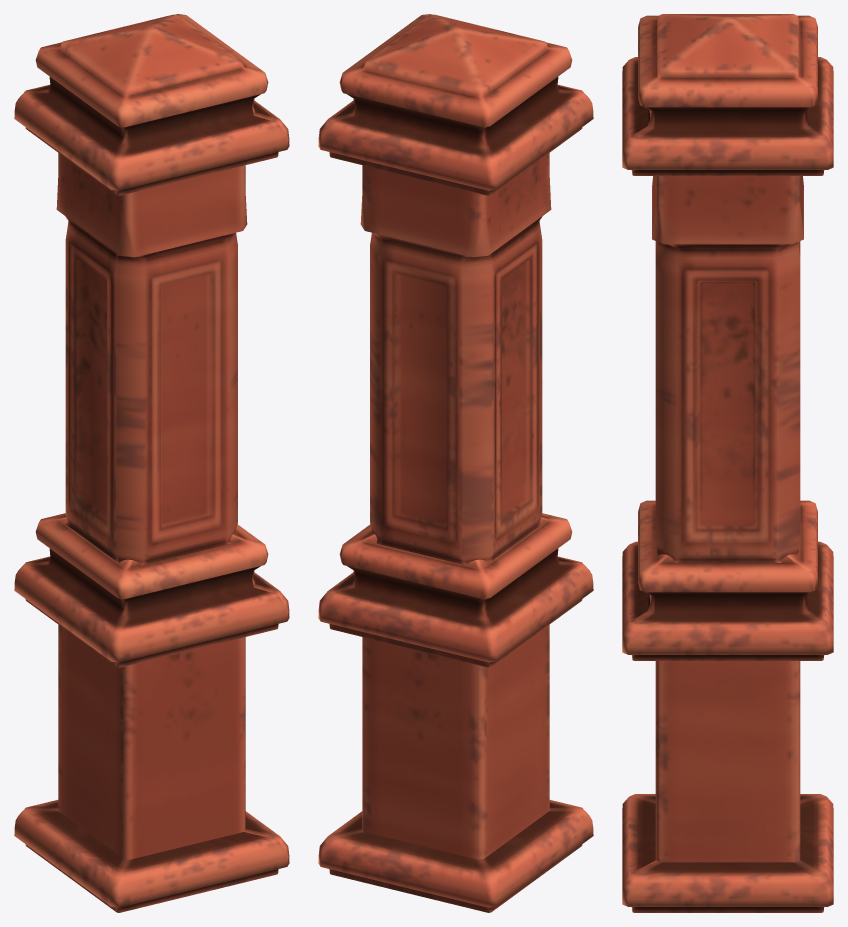
The model's file is MSH_RailingPost_01.FBX.
3 views of the same model, side by side, from view 1: azimuth 30°, elevation 25°; view 2: azimuth 150°, elevation 25°; view 3: azimuth 270°, elevation 25° (orthographic). The views are drawn at different scales.
Parts seen in each view (by area): view 1: MSH_RailingPost_01; view 2: MSH_RailingPost_01; view 3: MSH_RailingPost_01.
Part boxes in pixels (left/top/right/bottom): MSH_RailingPost_01: left=14, top=14, right=289, bottom=912; MSH_RailingPost_01: left=318, top=14, right=593, bottom=912; MSH_RailingPost_01: left=622, top=14, right=833, bottom=912.
Size of what is drawn, in the model's own units: 40.94 by 40.94 by 182.
